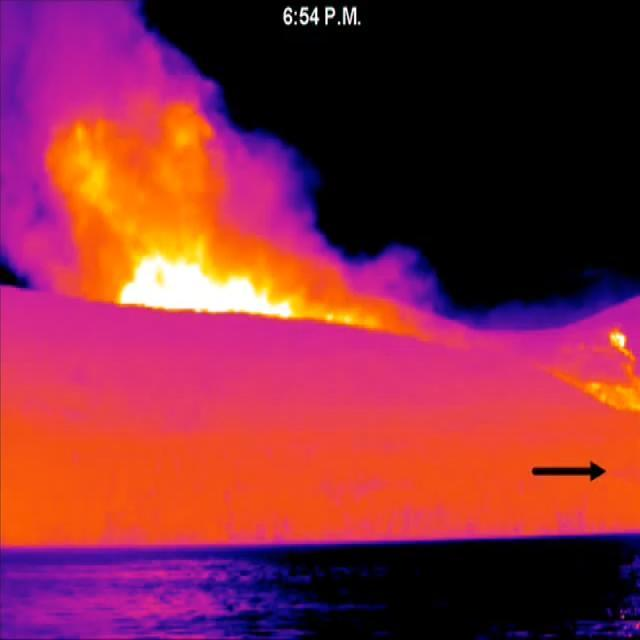fire: (81, 231, 445, 348)
